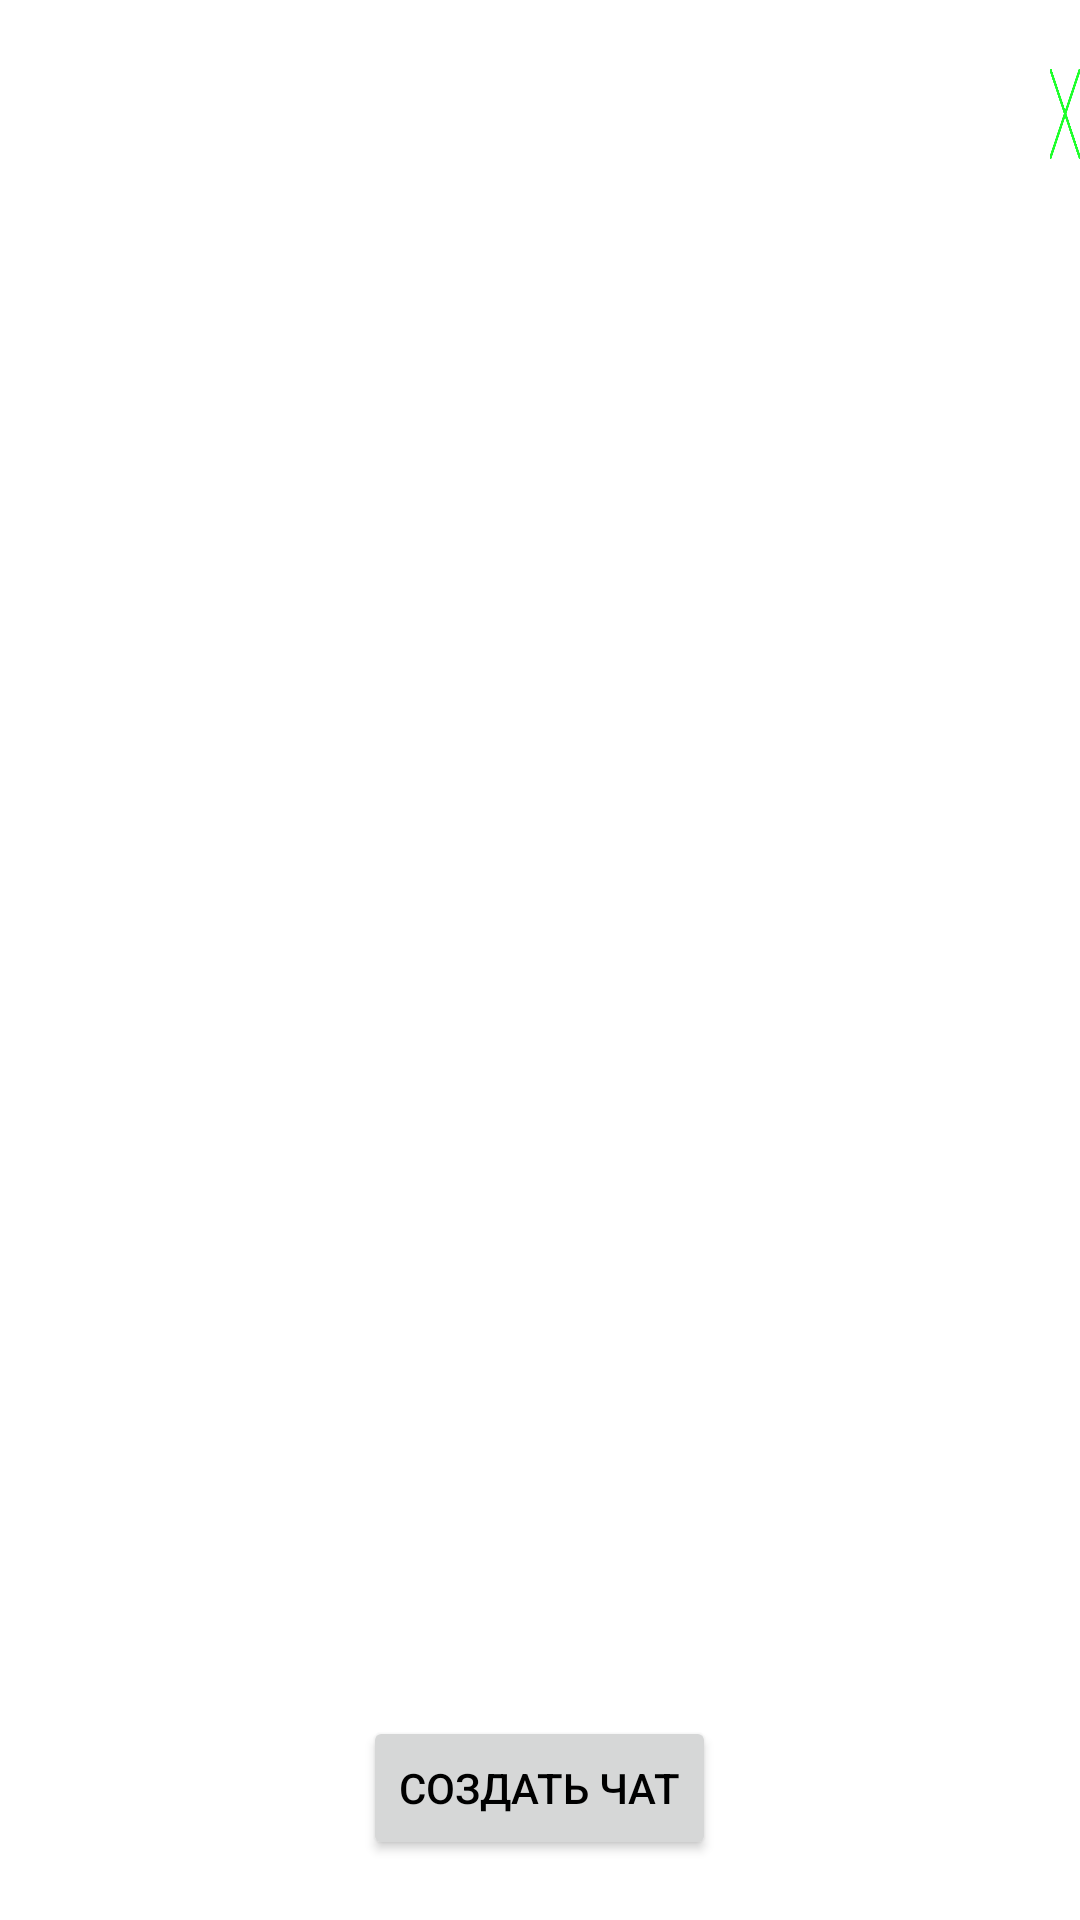

Named icons in this screenshot (1080px x 1920px) and their bounding boxes, Rect(x1, y1, x2, y2):
close: Rect(1050, 69, 1080, 159)
